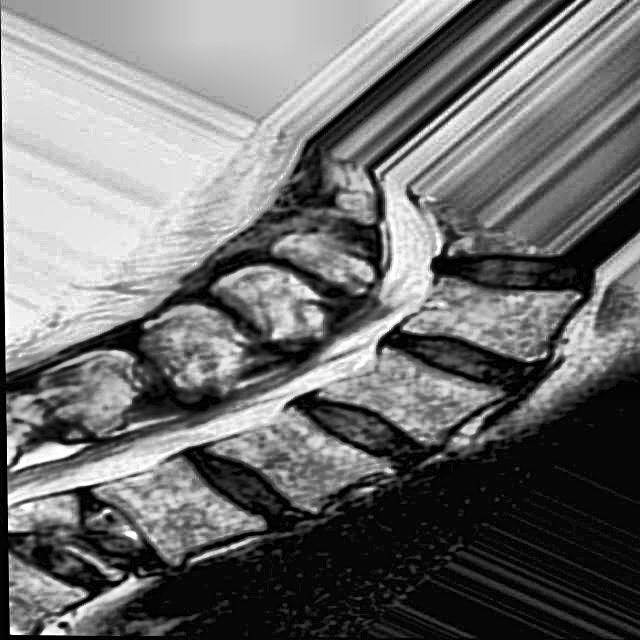Comminuted: (14, 505, 149, 590)
